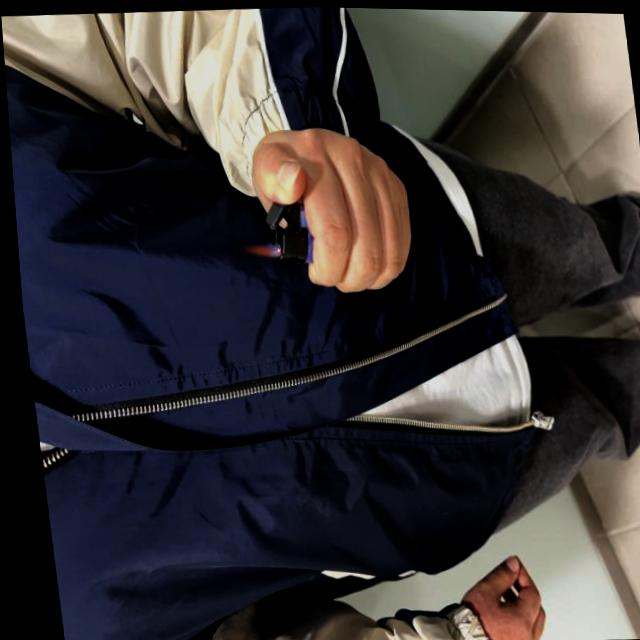helmet: (237, 241, 281, 261)
